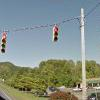Traffic light: (44, 19, 66, 49)
